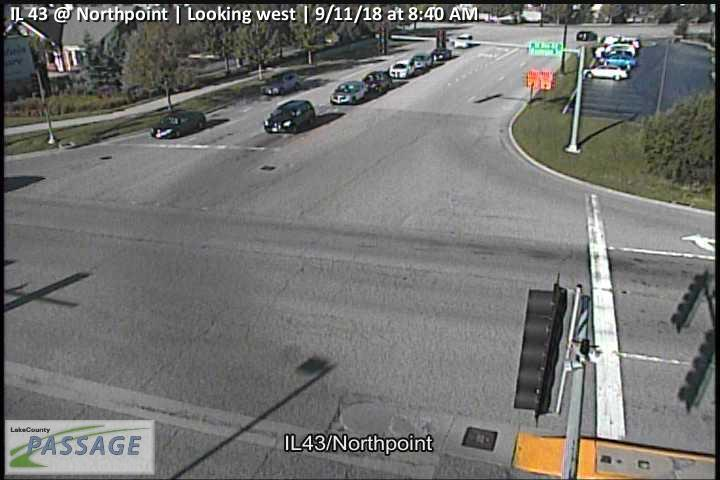SUV: (264, 101, 316, 133), (595, 44, 635, 59)
Sedan: (151, 110, 207, 139), (260, 73, 302, 96), (329, 82, 365, 105), (363, 71, 393, 96), (582, 65, 628, 80), (602, 55, 637, 68), (390, 61, 415, 78), (411, 55, 434, 72), (431, 47, 452, 61)
